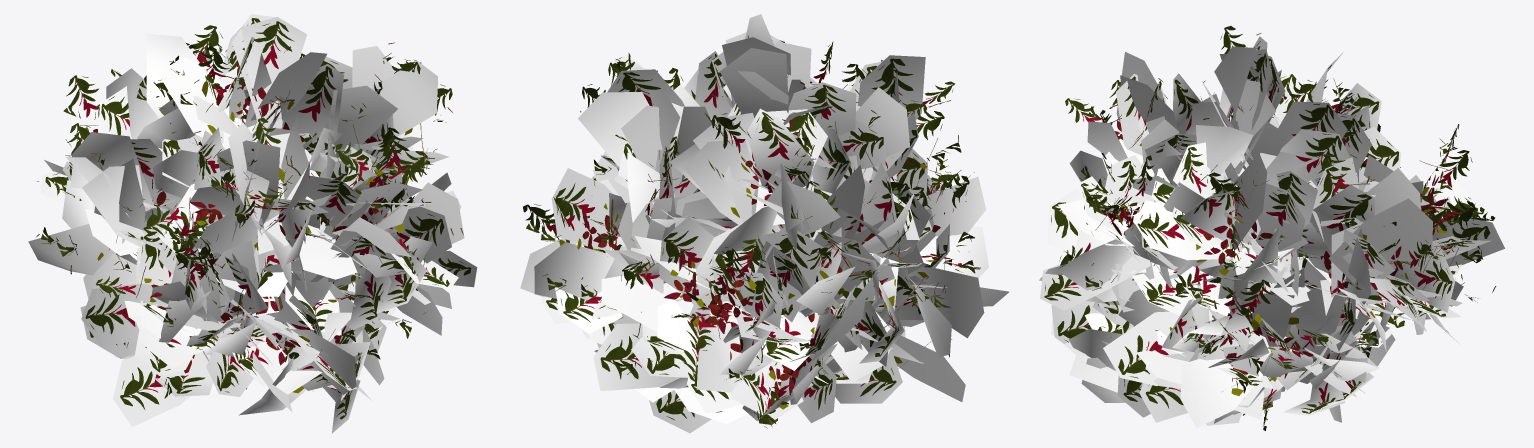
File: photontia1.glb
The picture shows the model from 3 angles, left to right: view 1: azimuth 30°, elevation 25°; view 2: azimuth 150°, elevation 25°; view 3: azimuth 270°, elevation 25°; orthographic projection. The views are drawn at different scales.
Visible parts, largest first — view 1: photontia1; view 2: photontia1; view 3: photontia1.
Part boxes in pixels (x1,y1,x2,y2): photontia1: (28, 14, 477, 433); photontia1: (520, 14, 1009, 433); photontia1: (1039, 26, 1504, 430).
Size of the model in its own units: 2 by 1.68 by 1.98.
Materials: 3 (2 with a texture image).
